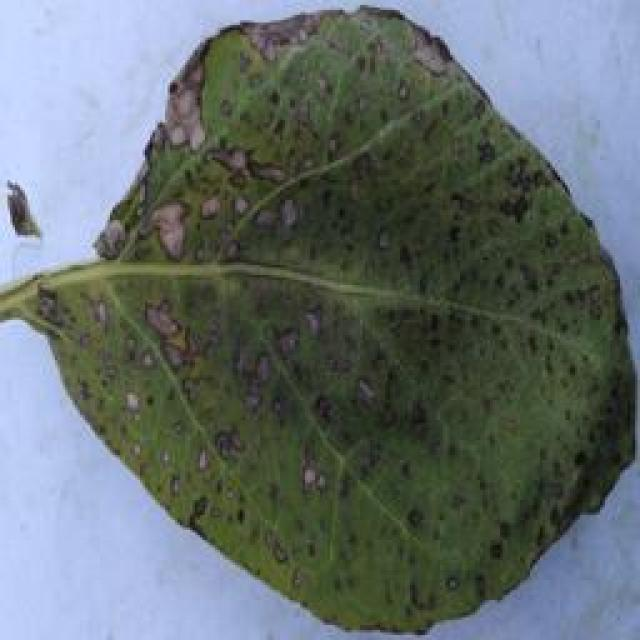Potato_Early_Blight: (6, 7, 632, 634)
